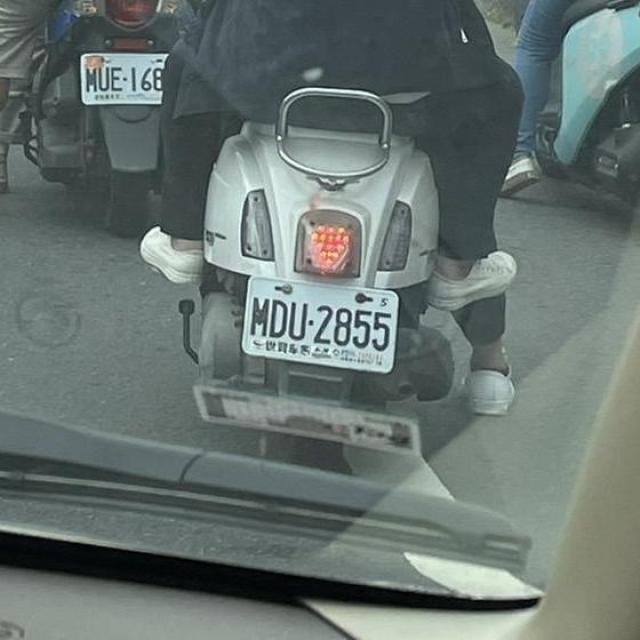W: (237, 274, 402, 376)
